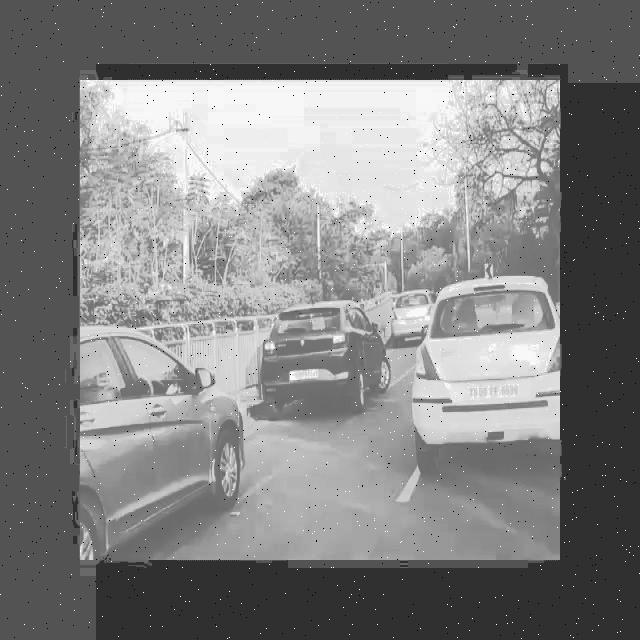Car: (82, 315, 249, 559), (413, 275, 562, 483), (256, 298, 395, 430), (389, 275, 429, 343)
